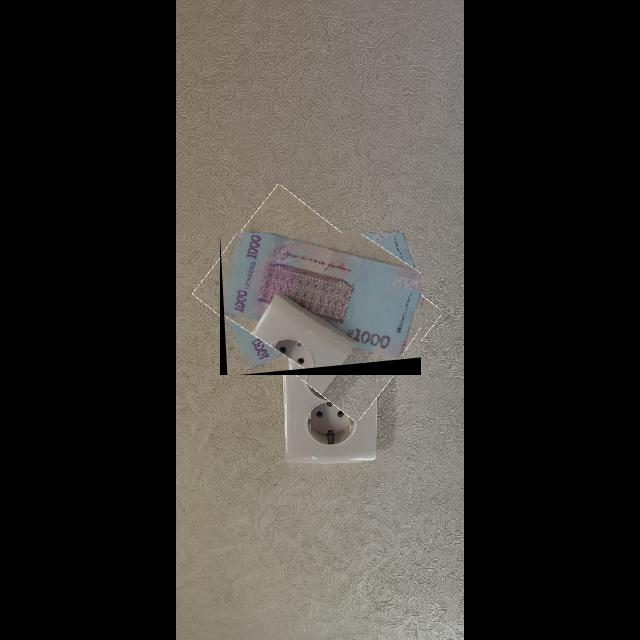1000uah: (224, 233, 422, 364)
